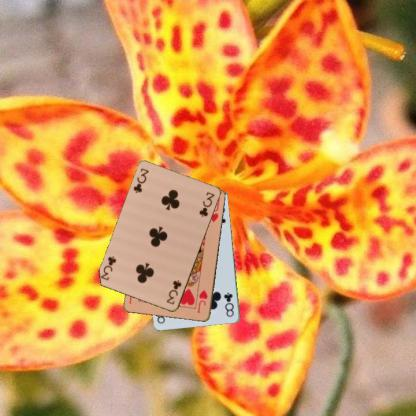3c: (164, 277, 183, 306), (131, 166, 150, 194)
8c: (221, 290, 235, 318)
Jh: (195, 287, 209, 314)
